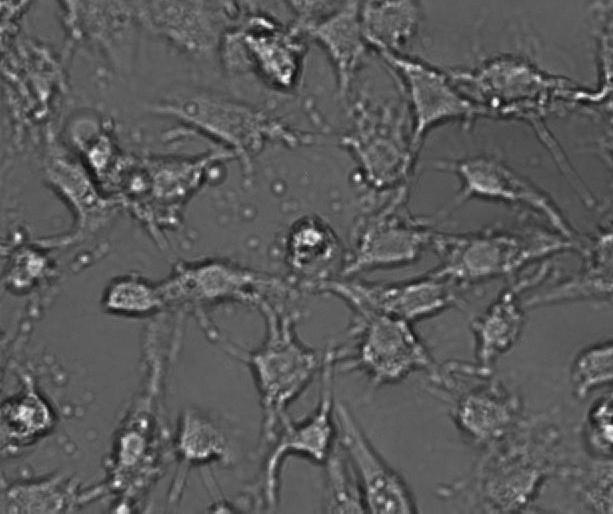Dead: (238, 25, 306, 93), (280, 214, 344, 271), (1, 235, 59, 297), (1, 383, 58, 443)
